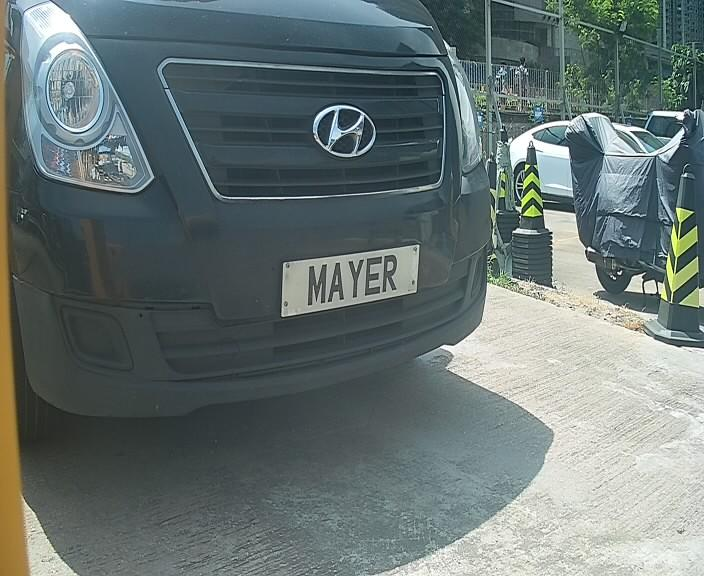License Plate: (274, 240, 422, 322)
